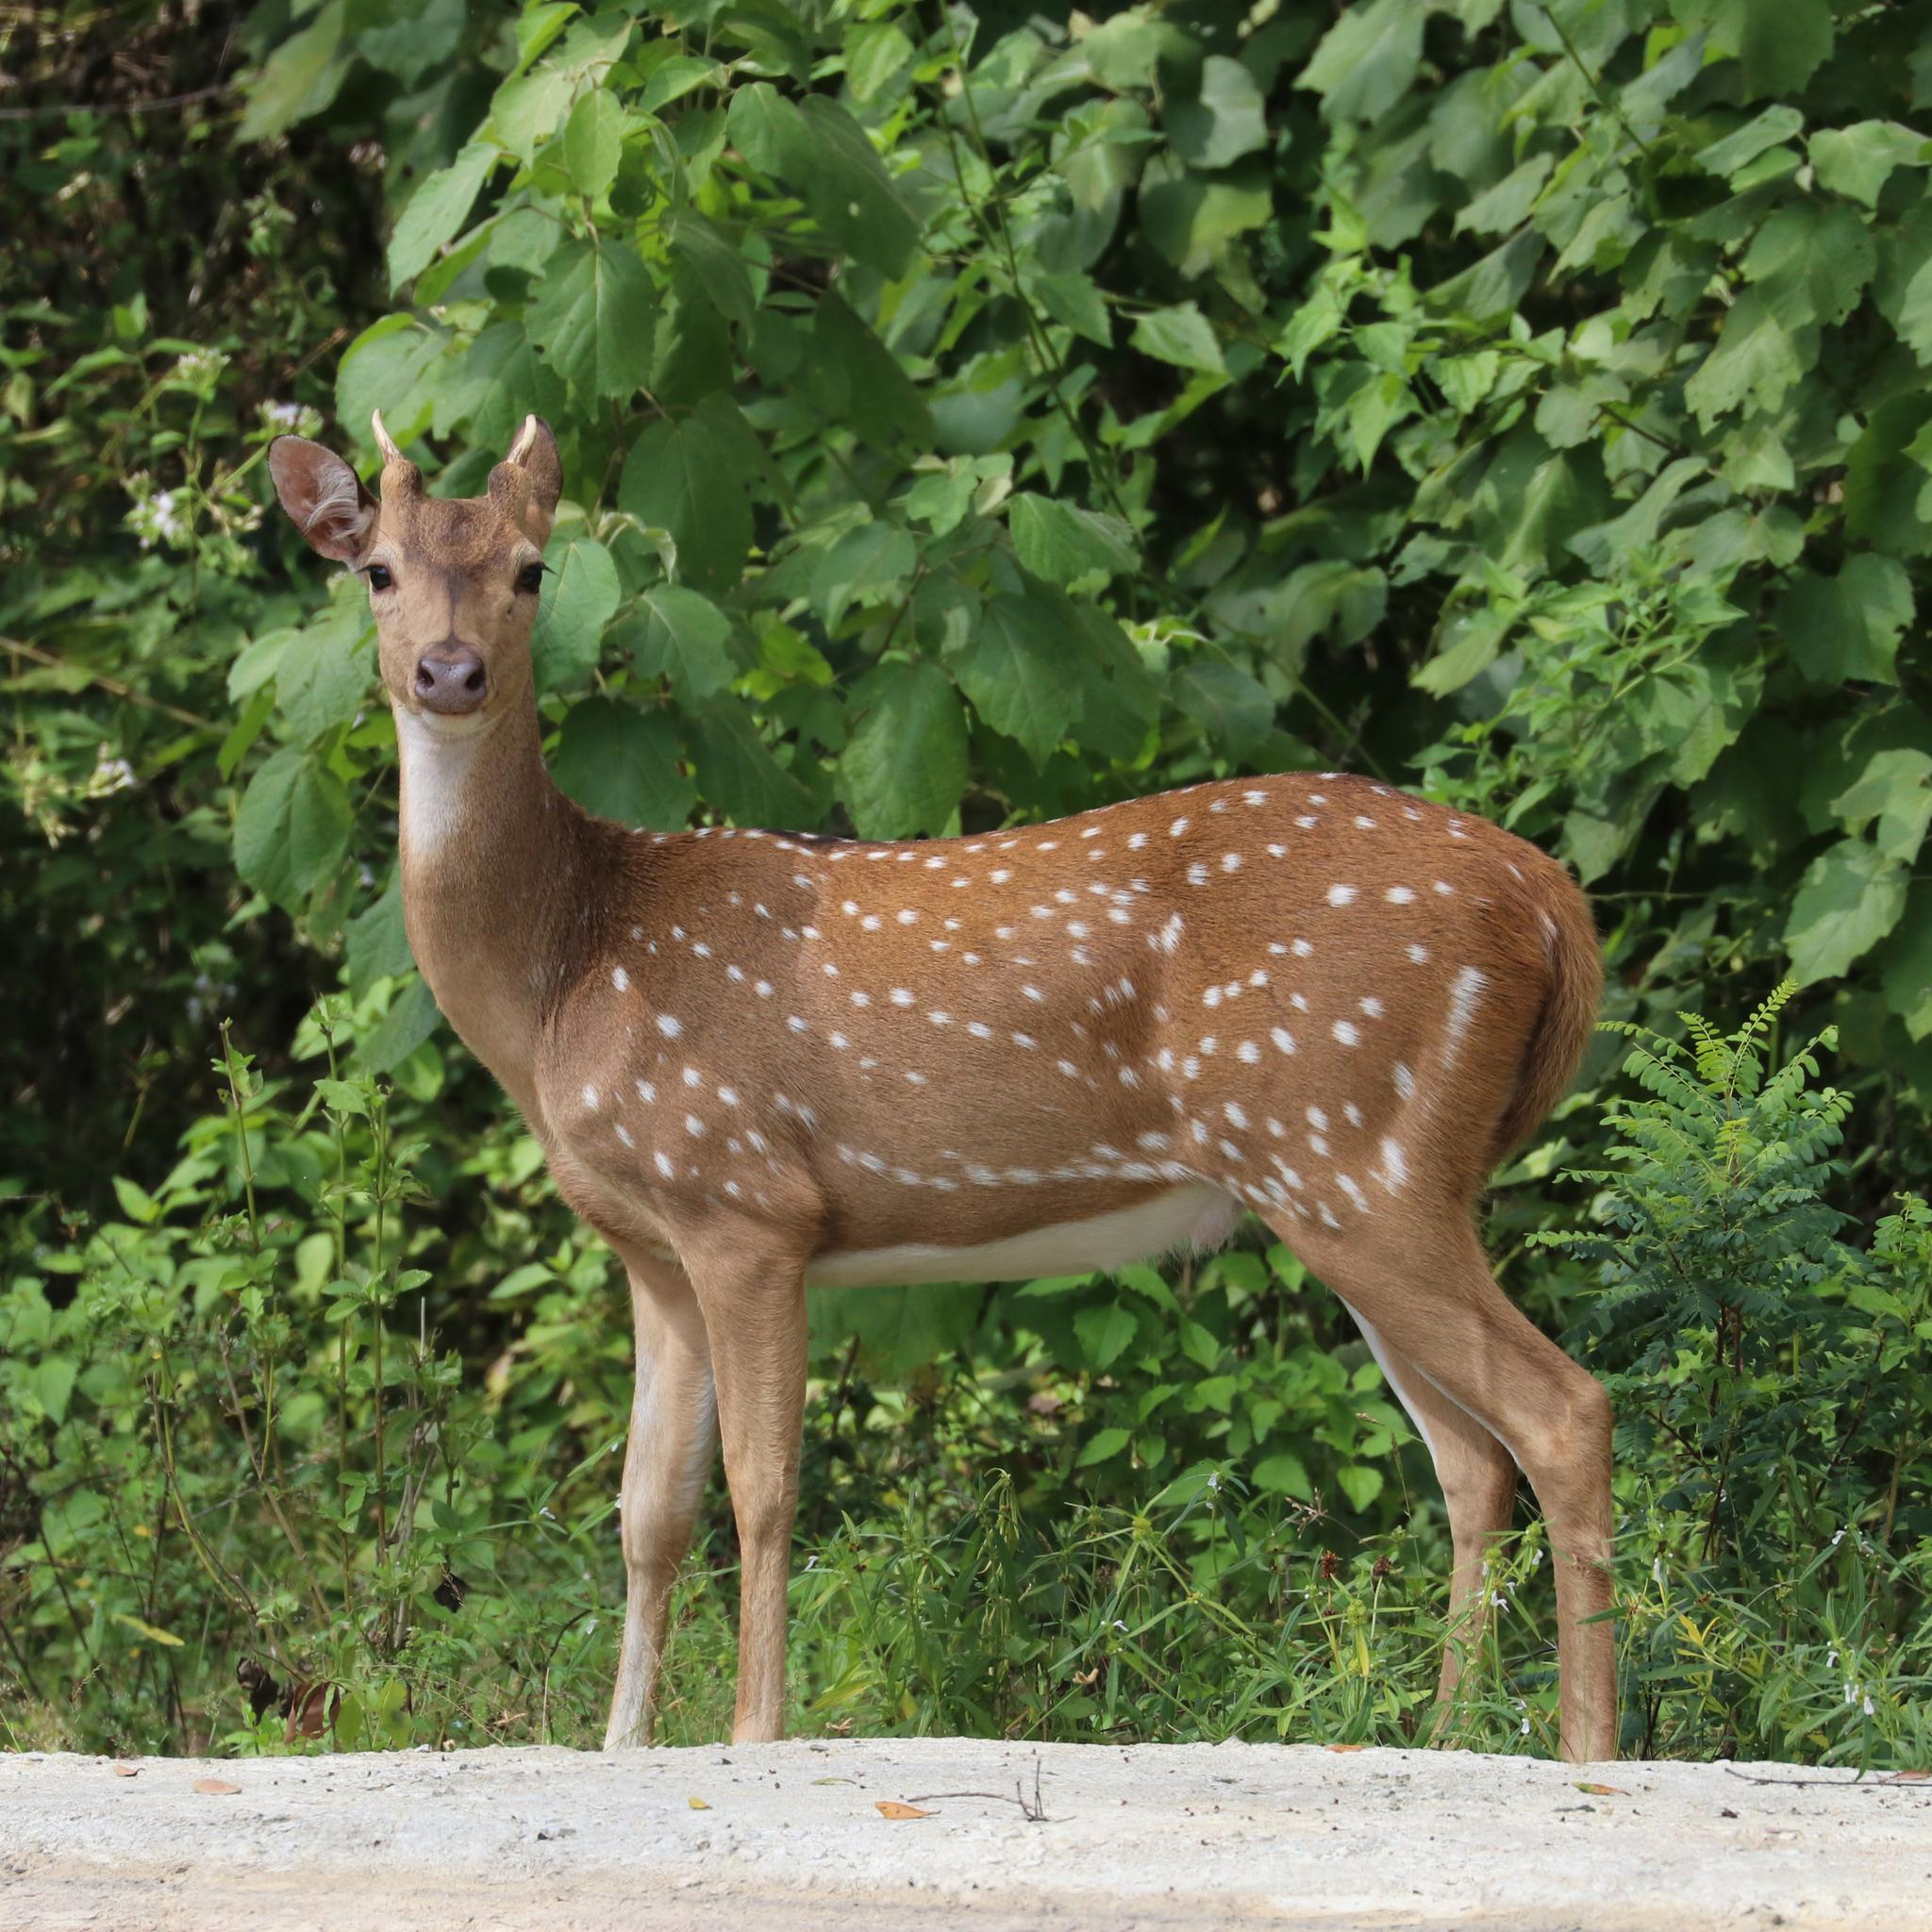Deer: (270, 416, 1616, 1761)
